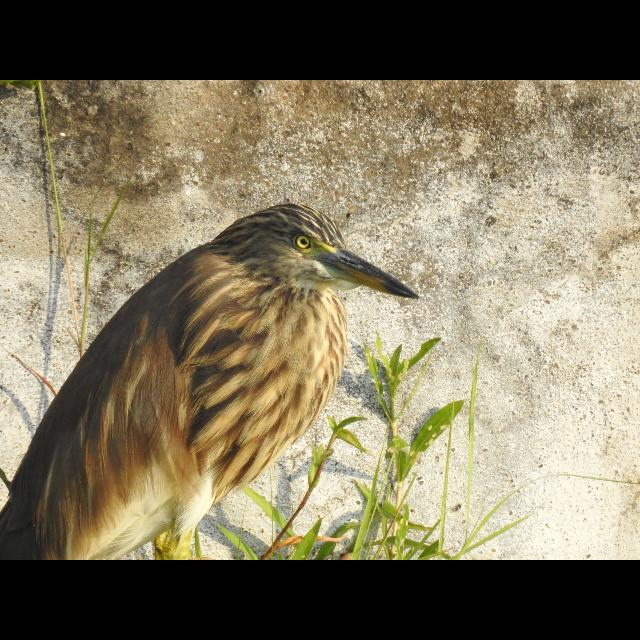heron: (0, 196, 428, 560)
